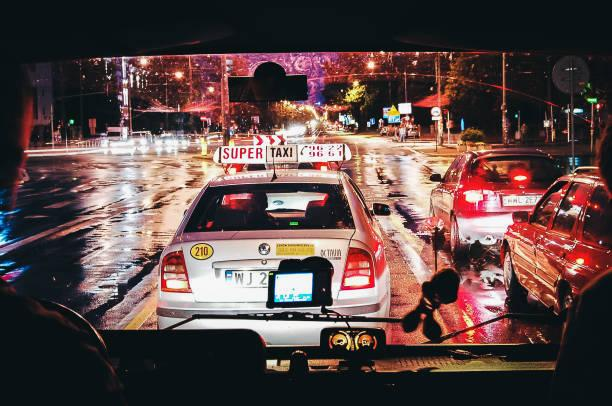skoda: (255, 241, 273, 258)
